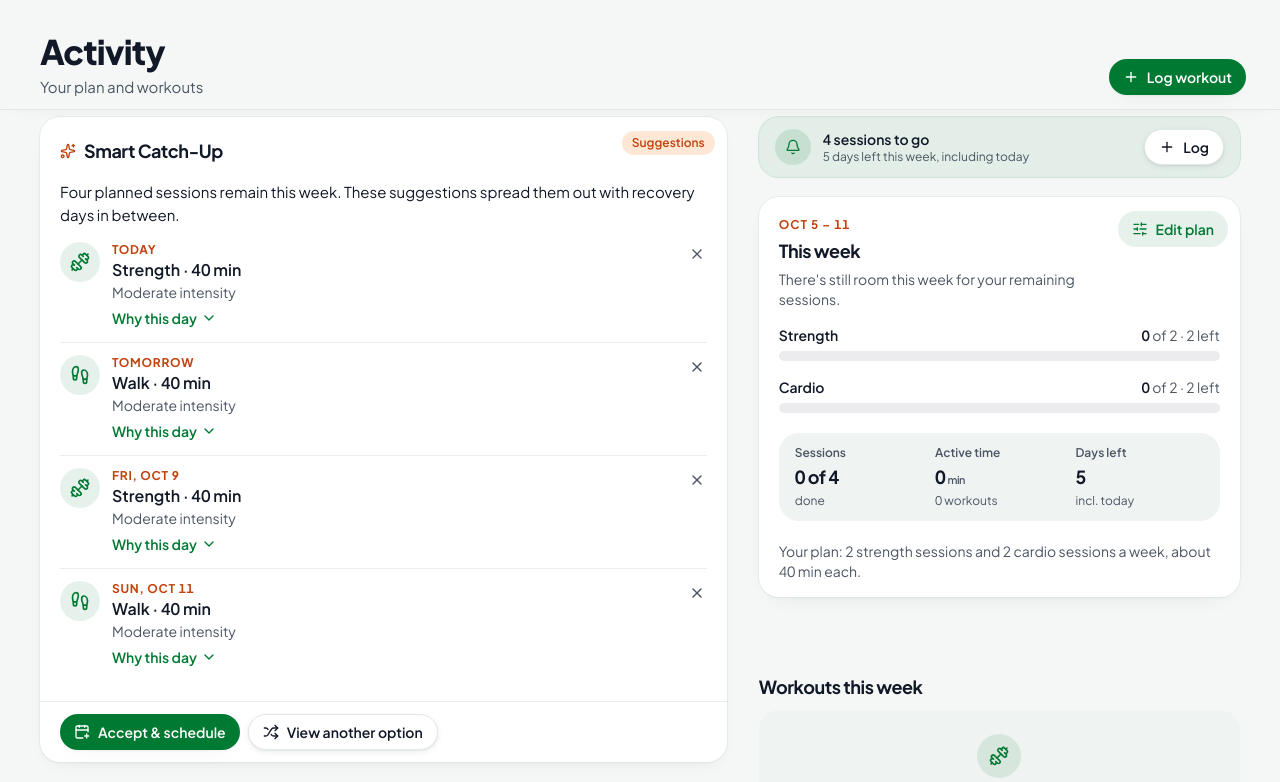
Test: Activity: weekly plan › validates the preferred session length and keeps the plan unchanged
expect the heading "This week" is shown: met, box [779,239,860,262]
Click the button "Edit plan" at (1173, 229), box [1118,211,1228,247]
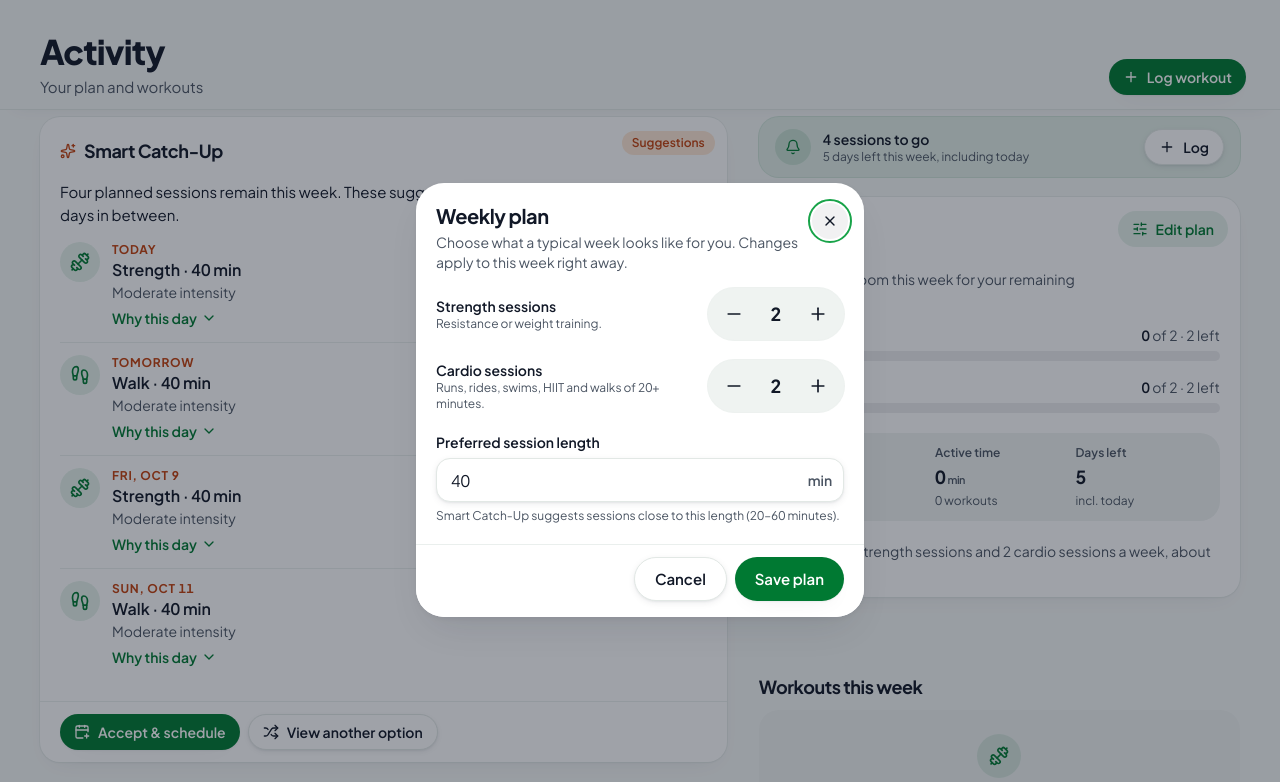
Replace the text in the field labelled "Preferred session length" with "5" at (640, 480), box [436,458,844,502]
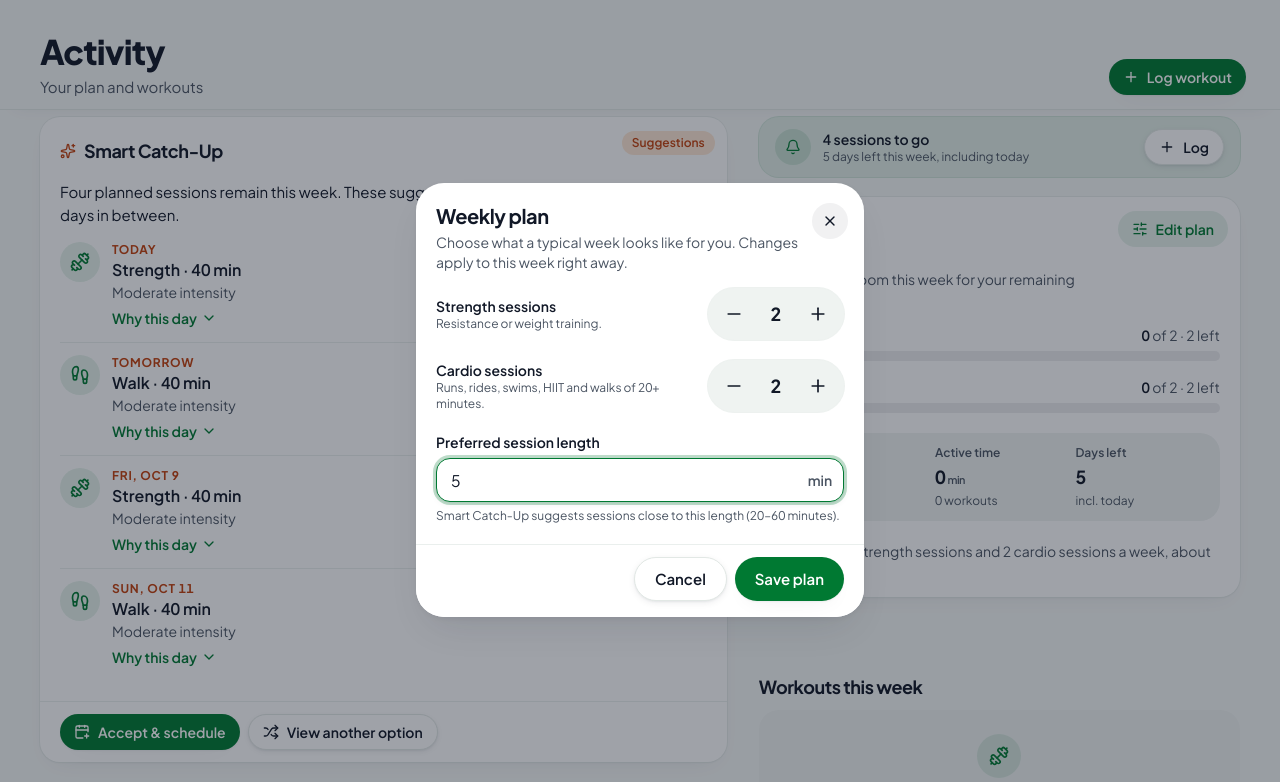
Click the button "Save plan" at (789, 579), box [735,557,844,601]
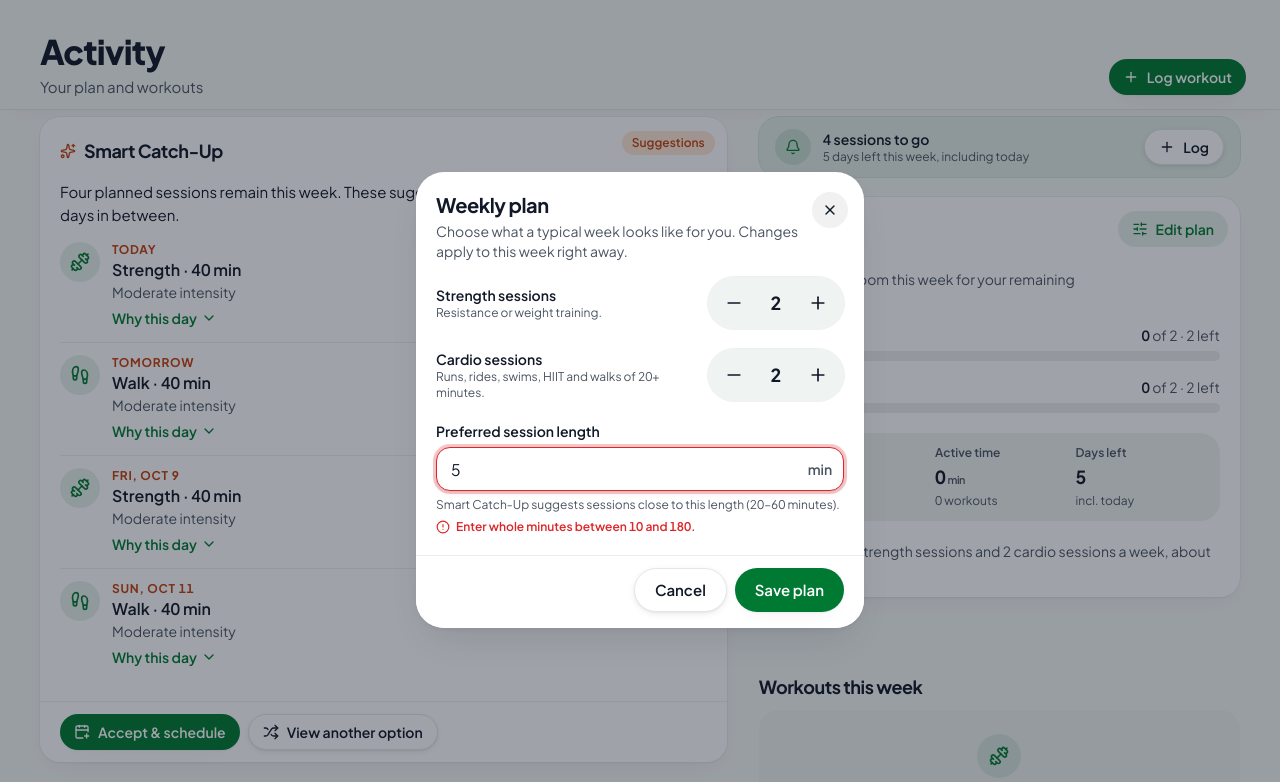
expect the text "Enter whole minutes between 10 and 180." is shown: met, box [456,519,695,535]
